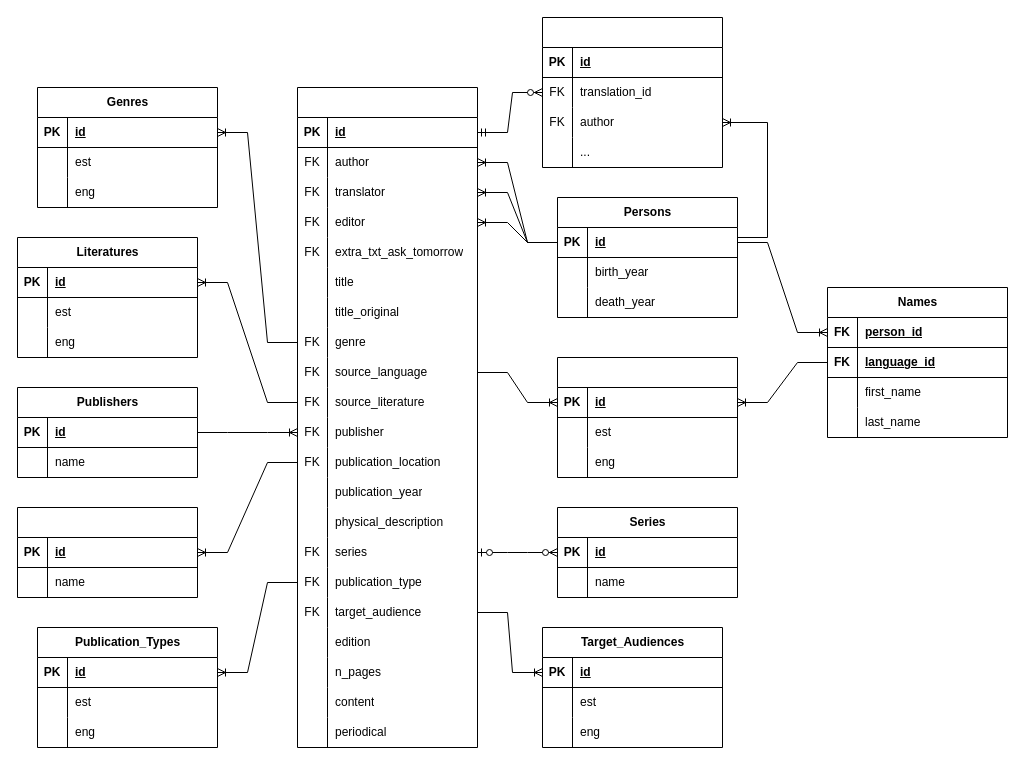
Some shapes in this 1025 by 765 pixel diagram are drawn without their labels. The shapes that lost their labels are listed below. From the top down, each one's box as (x1, y1, x2, y2) in pixels, then its label:
(542, 16, 722, 168): Reviews
(296, 86, 478, 748): Translations
(556, 356, 738, 478): Languages
(16, 506, 198, 598): Locations
